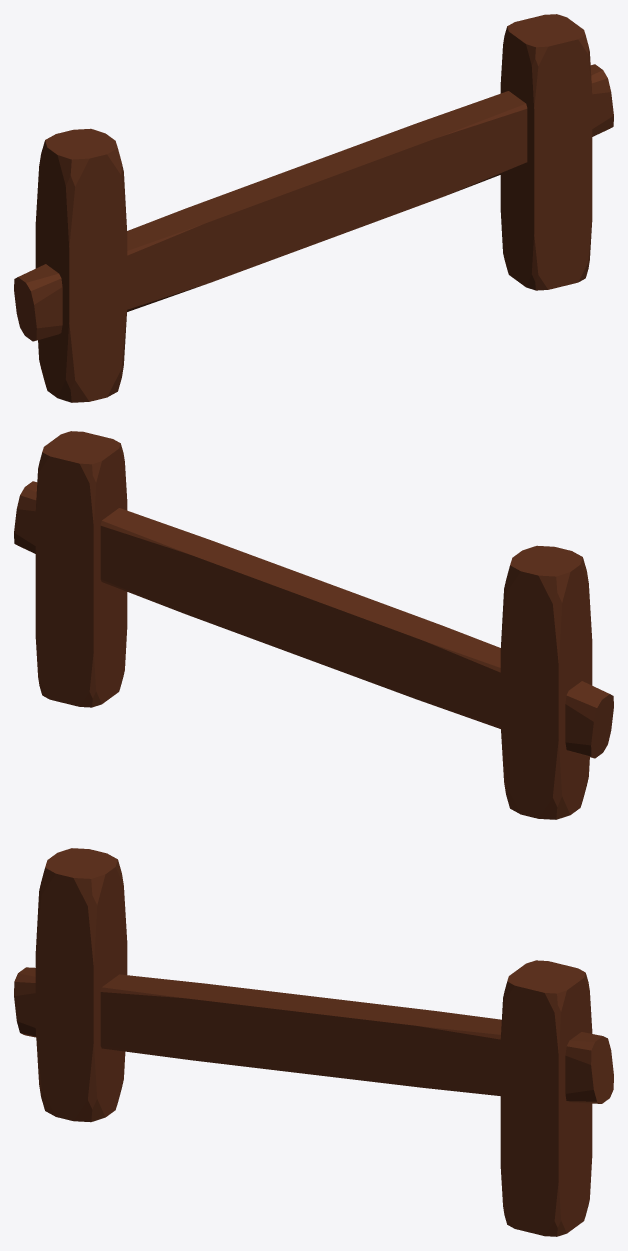
The model's file is Fence-2.fbx.
3 views of the same model, one above another, from view 1: azimuth 30°, elevation 25°; view 2: azimuth 150°, elevation 25°; view 3: azimuth 330°, elevation 25° (orthographic).
Visible parts, largest first — view 1: F2-Fence; view 2: F2-Fence; view 3: F2-Fence.
Part boxes in pixels (left/top/right/bottom): F2-Fence: left=14, top=14, right=613, bottom=402; F2-Fence: left=14, top=431, right=613, bottom=819; F2-Fence: left=14, top=848, right=613, bottom=1236.
Size of the model in its own units: 502 by 50 by 200.
